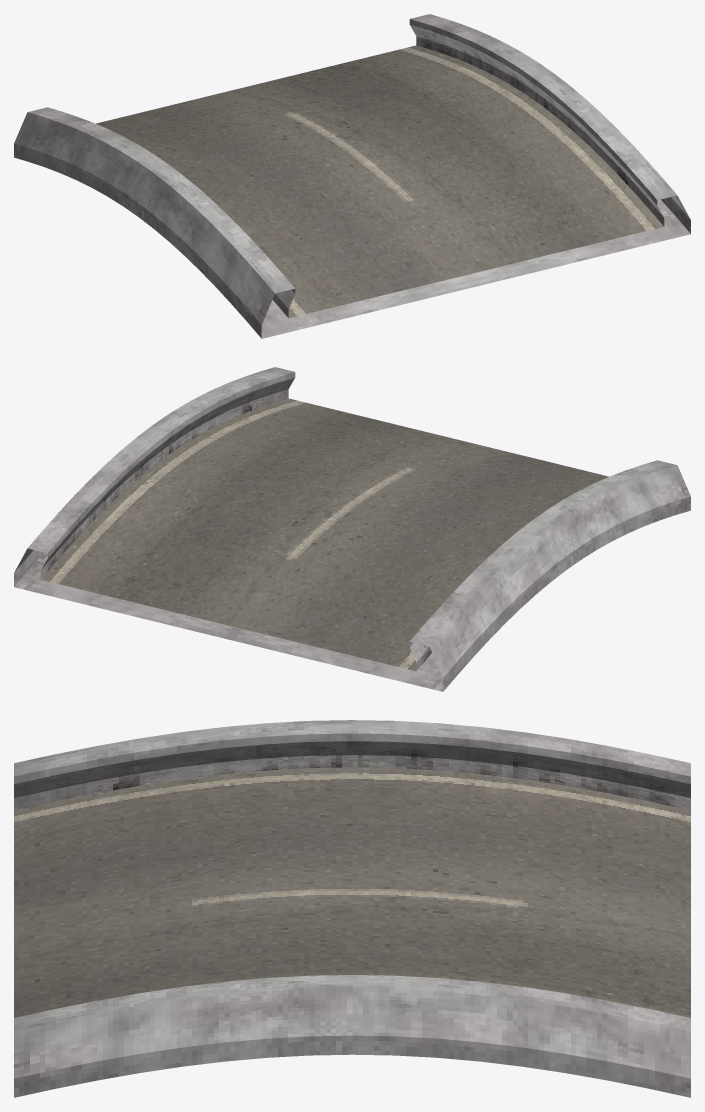
The model's file is straight1.glb.
The picture shows the model from 3 angles, top to bottom: view 1: azimuth 30°, elevation 25°; view 2: azimuth 150°, elevation 25°; view 3: azimuth 270°, elevation 25°; orthographic projection. The views are drawn at different scales.
Visible parts, largest first — view 1: road-Straight-BiSlopeUp-BiSlopeDown-Even-Center-Size1; view 2: road-Straight-BiSlopeUp-BiSlopeDown-Even-Center-Size1; view 3: road-Straight-BiSlopeUp-BiSlopeDown-Even-Center-Size1.
Boxes of the visible parts, x1,y1,x2,y2 form: road-Straight-BiSlopeUp-BiSlopeDown-Even-Center-Size1: [14, 14, 690, 338]; road-Straight-BiSlopeUp-BiSlopeDown-Even-Center-Size1: [14, 367, 690, 691]; road-Straight-BiSlopeUp-BiSlopeDown-Even-Center-Size1: [14, 720, 690, 1097].
Bounding box in the file's own units: 1 × 0.1641 × 1.
Materials: 2 (2 with a texture image).
